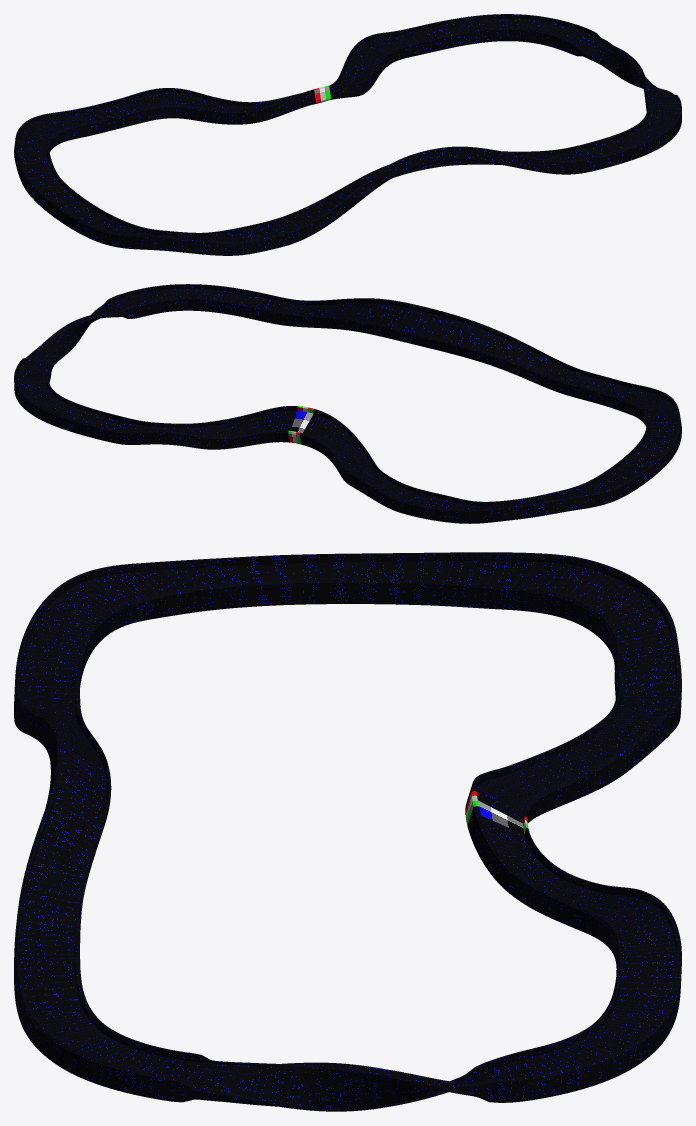
The model's file is helicoid_mobius.obj.
3 renders of one model, top to bottom at view 1: azimuth 30°, elevation 25°; view 2: azimuth 150°, elevation 25°; view 3: azimuth 270°, elevation 25°, orthographic. The views are drawn at different scales.
Parts seen in each view (by area): view 1: walls, track; view 2: walls, track; view 3: track, walls.
Part boxes in pixels (x1=…): walls: x1=14, y1=14, x2=681, y2=255; track: x1=18, y1=18, x2=679, y2=241; walls: x1=14, y1=284, x2=681, y2=523; track: x1=16, y1=288, x2=677, y2=509; track: x1=20, y1=561, x2=676, y2=1108; walls: x1=14, y1=552, x2=681, y2=1111.
Bounding box in the file's own units: 3.28 × 0.2949 × 1.75.
1 material, 1 textured.
